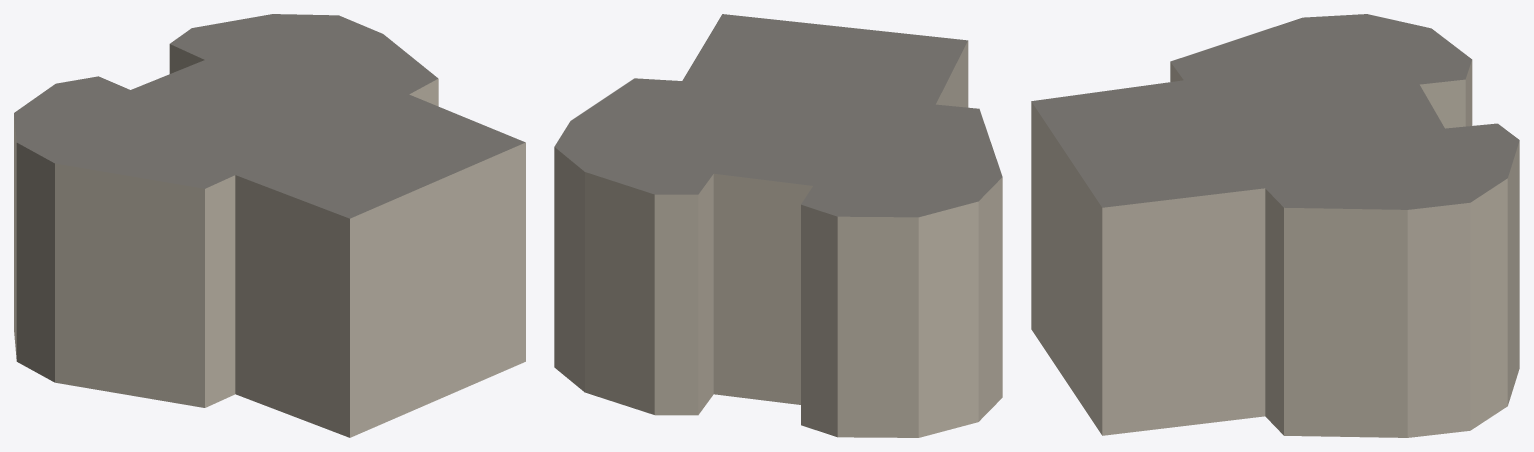
The picture shows the model from 3 angles, left to right: view 1: azimuth 30°, elevation 25°; view 2: azimuth 150°, elevation 25°; view 3: azimuth 270°, elevation 25°; orthographic projection. The views are drawn at different scales.
Parts seen in each view (by area): view 1: HP-w293416978; view 2: HP-w293416978; view 3: HP-w293416978.
Part boxes in pixels (<box>): HP-w293416978: <box>14,14,525,437</box>; HP-w293416978: <box>554,14,1002,437</box>; HP-w293416978: <box>1031,14,1519,437</box>.
Bounding box in the file's own units: 33.17 × 18 × 34.95.
